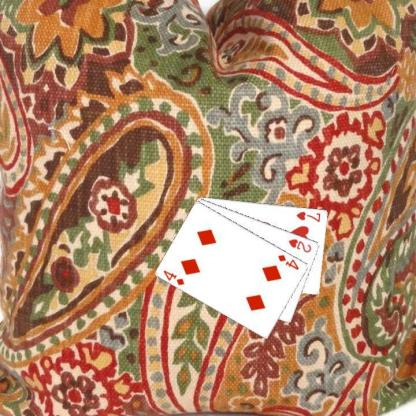2H: (286, 236, 313, 254)
4D: (276, 252, 300, 271), (161, 268, 186, 286)
7H: (293, 209, 322, 223)
